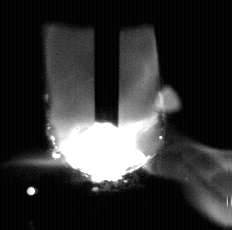arame: (95, 0, 119, 128)
poca: (48, 0, 162, 230)
